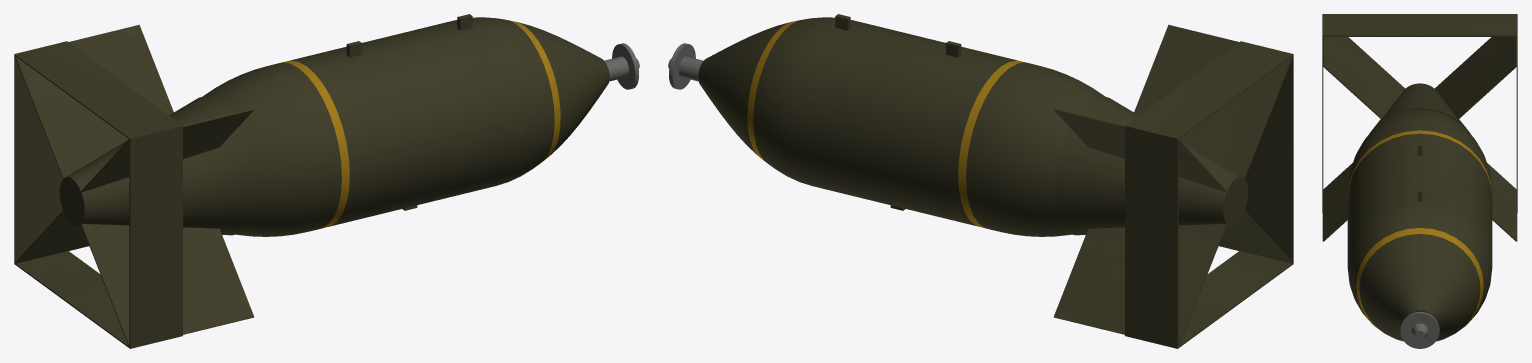
3 renders of one model, left to right at view 1: azimuth 30°, elevation 25°; view 2: azimuth 150°, elevation 25°; view 3: azimuth 270°, elevation 25°, orthographic. The views are drawn at different scales.
Parts seen in each view (by area): view 1: an-m65; view 2: an-m65; view 3: an-m65.
Boxes of the visible parts, x1,y1,x2,y2 form: an-m65: [14, 14, 639, 348]; an-m65: [668, 14, 1293, 348]; an-m65: [1322, 14, 1517, 348].
Bounding box in the file's own units: 1.81 × 0.6452 × 0.6452.
1 material, 1 textured.
